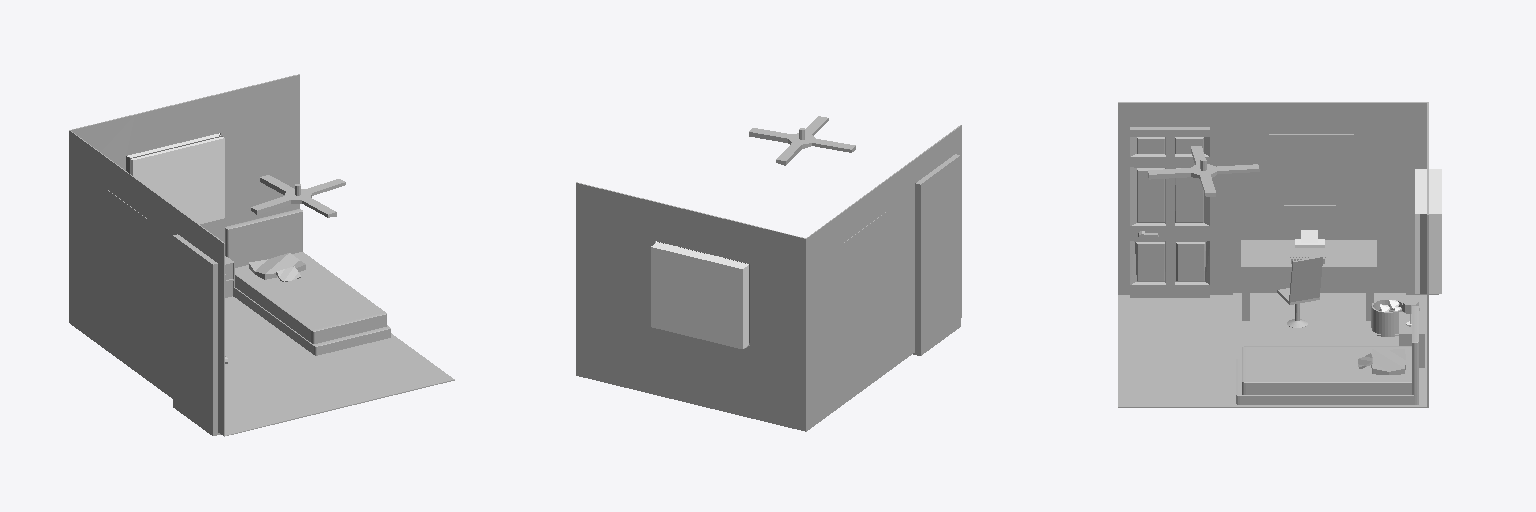
The model's file is Room.obj.
3 renders of one model, left to right at view 1: azimuth 30°, elevation 25°; view 2: azimuth 150°, elevation 25°; view 3: azimuth 270°, elevation 25°, orthographic.
Visible parts, largest first — view 1: Cube, Cube.009, Cube.010, CTRL_Hole.001, Cube.004, house, Cylinder.003, Cube.005; view 2: Cube, CTRL_Hole.001, Cube.009, house, Cylinder.003; view 3: Cube, Cube.009, Cube.010, Plane.001, Cube.002, house, Cube.004, CTRL_Hole.001, Cube.007, Cylinder.003, winxp-royale, Cube.005 (+5 smaller).
Boxes of the visible parts, <box> form: Cube: <box>69,74,454,436</box>; Cube.009: <box>173,234,220,435</box>; Cube.010: <box>235,252,386,343</box>; CTRL_Hole.001: <box>127,134,224,224</box>; Cube.004: <box>225,209,390,355</box>; house: <box>106,189,148,262</box>; Cylinder.003: <box>251,175,345,217</box>; Cube.005: <box>249,253,305,279</box>; Cube: <box>576,125,961,431</box>; CTRL_Hole.001: <box>651,242,748,348</box>; Cube.009: <box>913,154,960,355</box>; house: <box>844,212,886,285</box>; Cylinder.003: <box>749,116,855,165</box>; Cube: <box>1118,102,1428,407</box>; Cube.009: <box>1130,127,1209,297</box>; Cube.010: <box>1242,346,1411,394</box>; Plane.001: <box>1233,293,1405,334</box>; Cube.002: <box>1241,240,1376,273</box>; house: <box>1269,134,1353,177</box>; Cube.004: <box>1236,306,1418,404</box>; CTRL_Hole.001: <box>1415,169,1441,293</box>; Cube.007: <box>1277,256,1322,327</box>; Cylinder.003: <box>1148,146,1259,196</box>; winxp-royale: <box>1285,206,1334,228</box>; Cube.005: <box>1371,349,1405,374</box>.
Size of the model in its own units: 3.07 by 2.46 by 3.65.